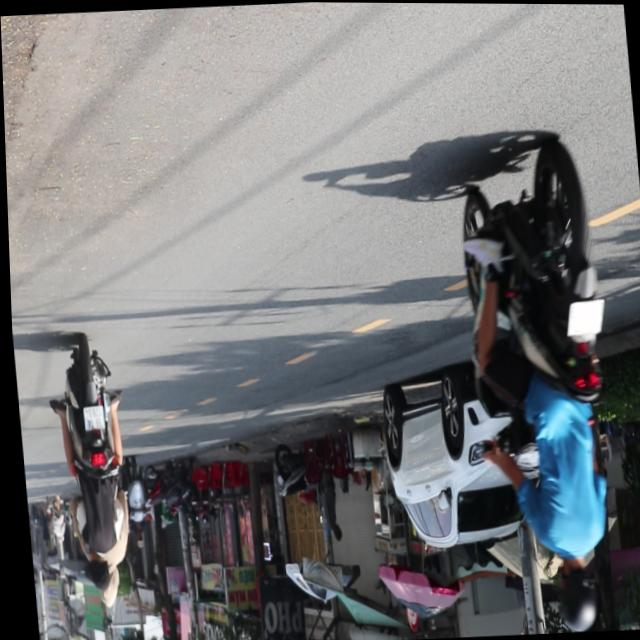helmet: (549, 554, 599, 632), (94, 567, 117, 607)
licenseplate: (446, 130, 633, 636), (43, 336, 137, 609)
motorcyclist: (82, 553, 107, 592)
nohelmet: (564, 300, 605, 336), (81, 404, 103, 432)
